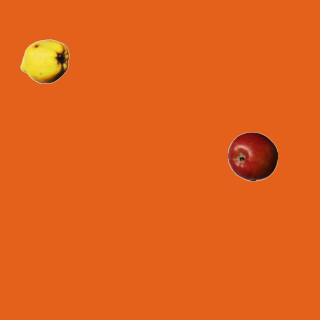Apple Braeburn: (227, 131, 277, 181)
Quince: (19, 36, 69, 86)
